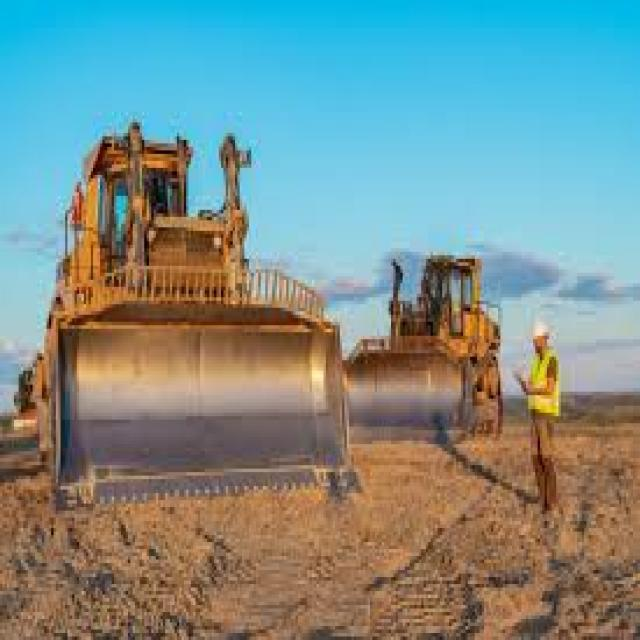Reflective-Jacket: (519, 349, 568, 426)
Safety-Helmet: (526, 311, 556, 350)
